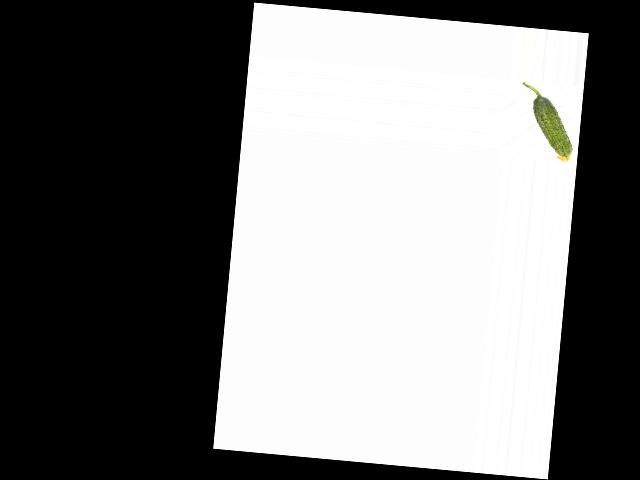cucumber: (516, 82, 578, 163)
